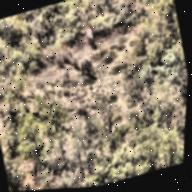boar: (75, 51, 97, 81), (59, 44, 75, 69), (47, 41, 60, 60), (71, 52, 82, 72), (64, 41, 76, 57), (41, 46, 51, 61), (57, 55, 65, 70)
